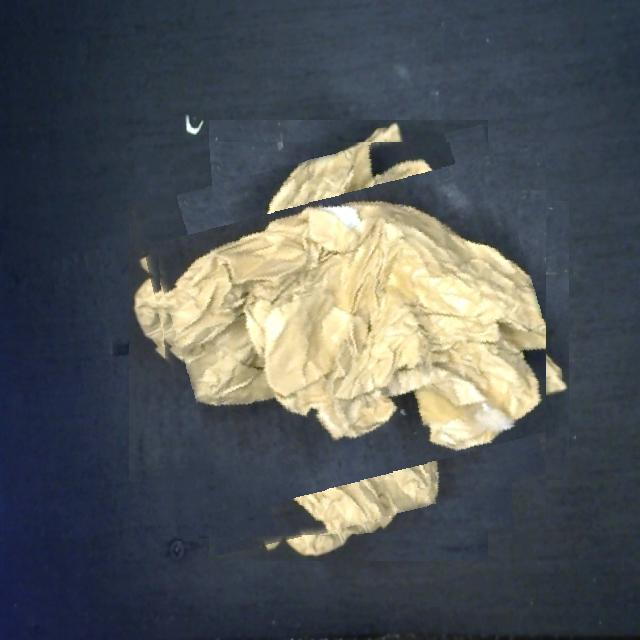biodegradable: (151, 142, 546, 539)
